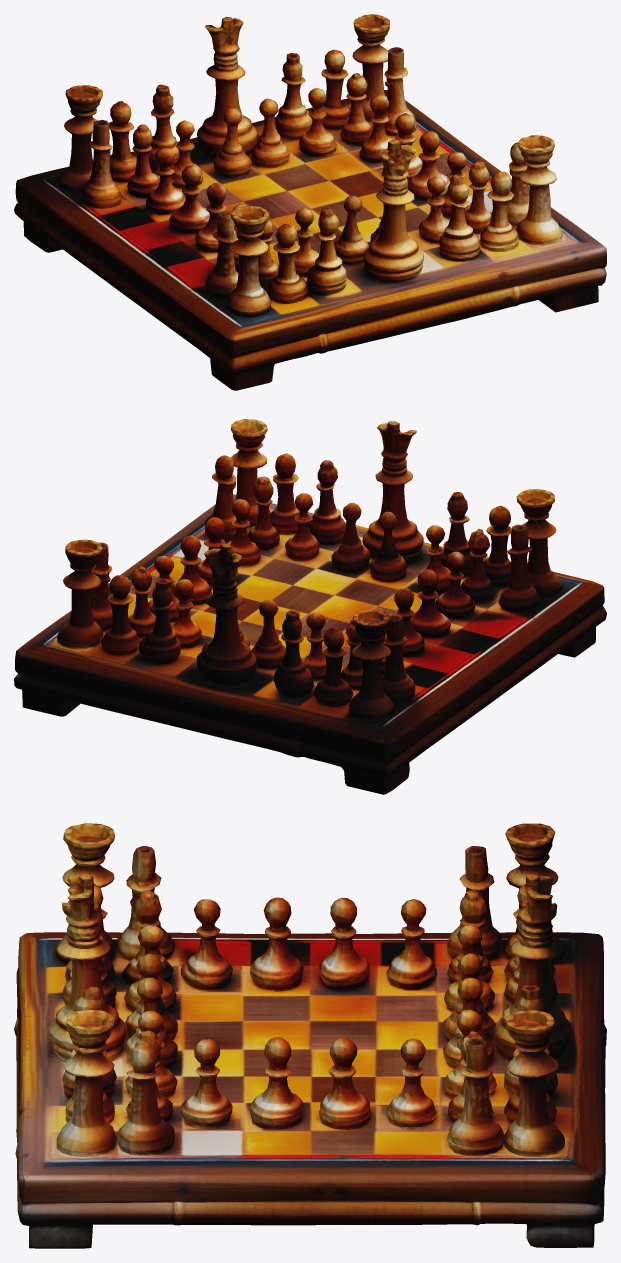
The model's file is bamboo-chess-set-vintage.jpeg.glb.
The picture shows the model from 3 angles, top to bottom: view 1: azimuth 30°, elevation 25°; view 2: azimuth 150°, elevation 25°; view 3: azimuth 270°, elevation 25°; orthographic projection. The views are drawn at different scales.
Visible parts, largest first — view 1: world; view 2: world; view 3: world.
Boxes of the visible parts, bbox=[...] form: world: bbox=[14, 14, 606, 390]; world: bbox=[14, 419, 606, 794]; world: bbox=[14, 823, 606, 1248].
Size of the model in its own units: 0.9897 by 0.4713 by 1.
Materials: 1 (1 with a texture image).
